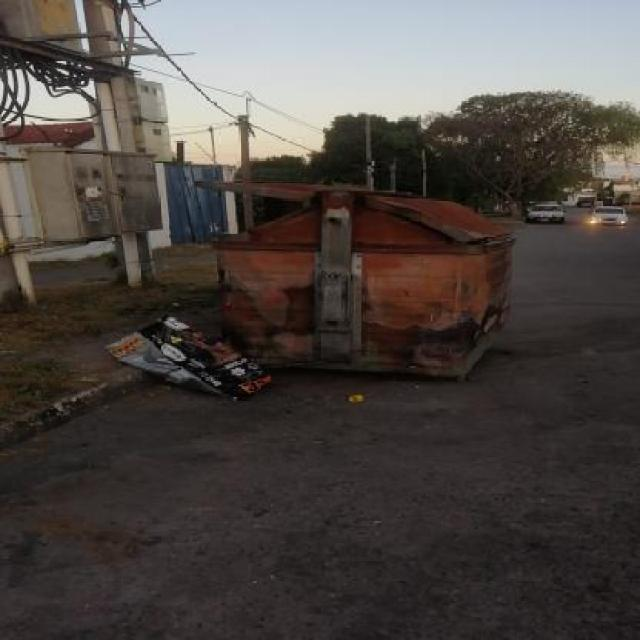garbage: (40, 328, 318, 402)
